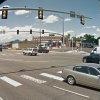Crosswalk: (3, 66, 63, 93)
